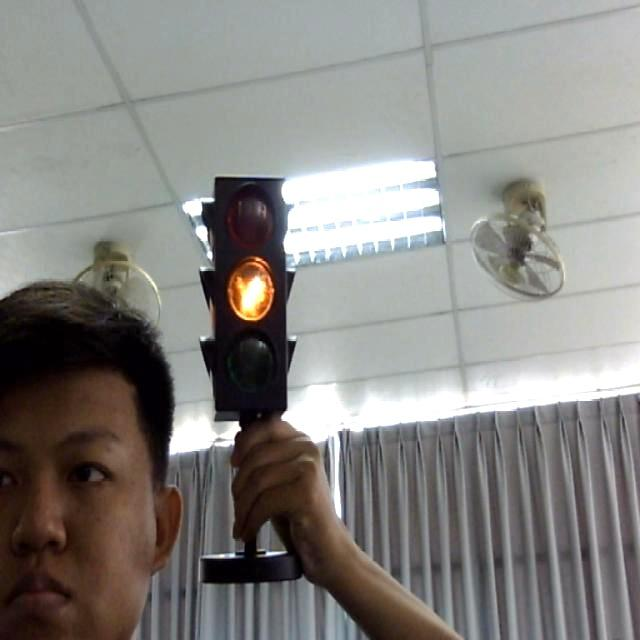Yellow: (207, 167, 299, 419)
